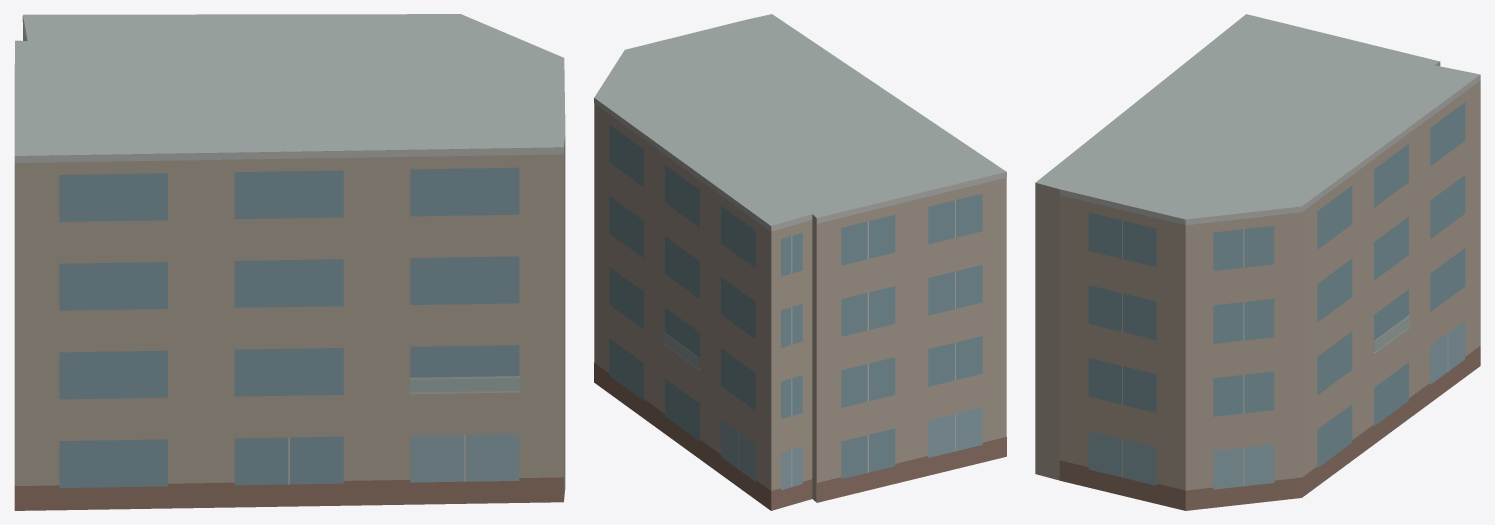
Rendered from survey-upis-32682629.glb.
3 renders of one model, left to right at view 1: azimuth 30°, elevation 25°; view 2: azimuth 150°, elevation 25°; view 3: azimuth 270°, elevation 25°, orthographic. The views are drawn at different scales.
Visible parts, largest first — view 1: survey-upis-32682629.tmp; view 2: survey-upis-32682629.tmp; view 3: survey-upis-32682629.tmp.
Boxes of the visible parts, x1,y1,x2,y2 form: survey-upis-32682629.tmp: (14, 14, 565, 510); survey-upis-32682629.tmp: (594, 14, 1006, 510); survey-upis-32682629.tmp: (1035, 14, 1480, 510).
Size of the model in its own units: 18.46 by 12.2 by 16.9.
